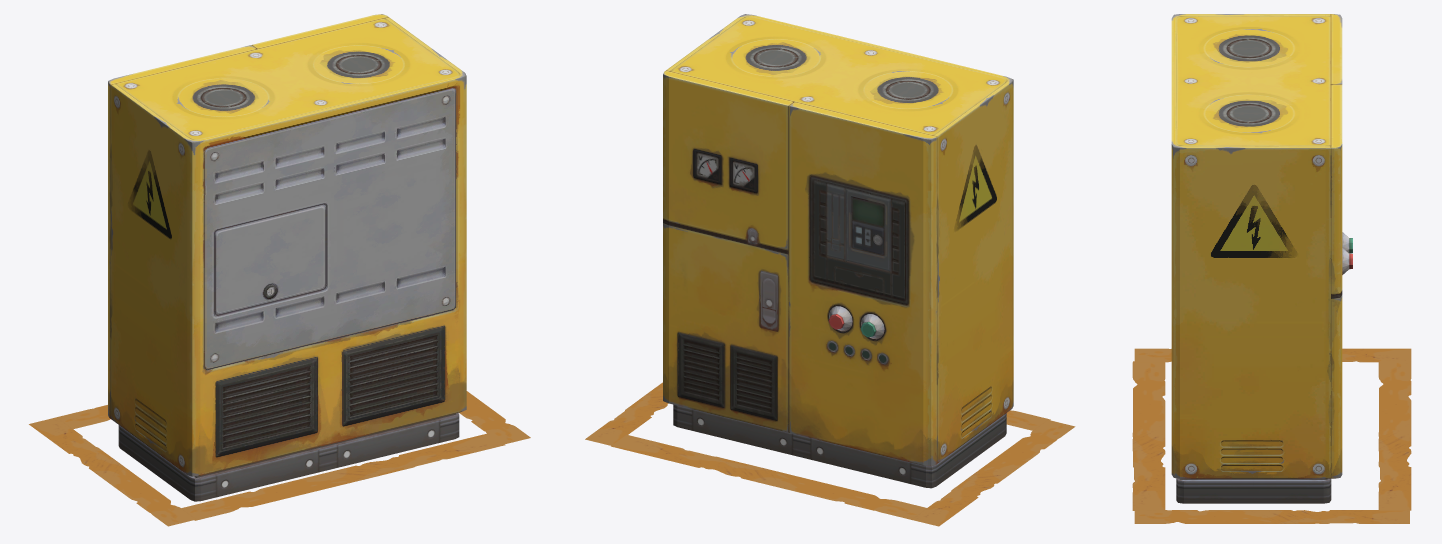
The model's file is P_Facility_00176.obj.
3 views of the same model, side by side, from view 1: azimuth 30°, elevation 25°; view 2: azimuth 150°, elevation 25°; view 3: azimuth 270°, elevation 25° (orthographic). The views are drawn at different scales.
Size of the model in its own units: 2.59 by 2.3 by 1.8.
Materials: 5 (5 with a texture image).
